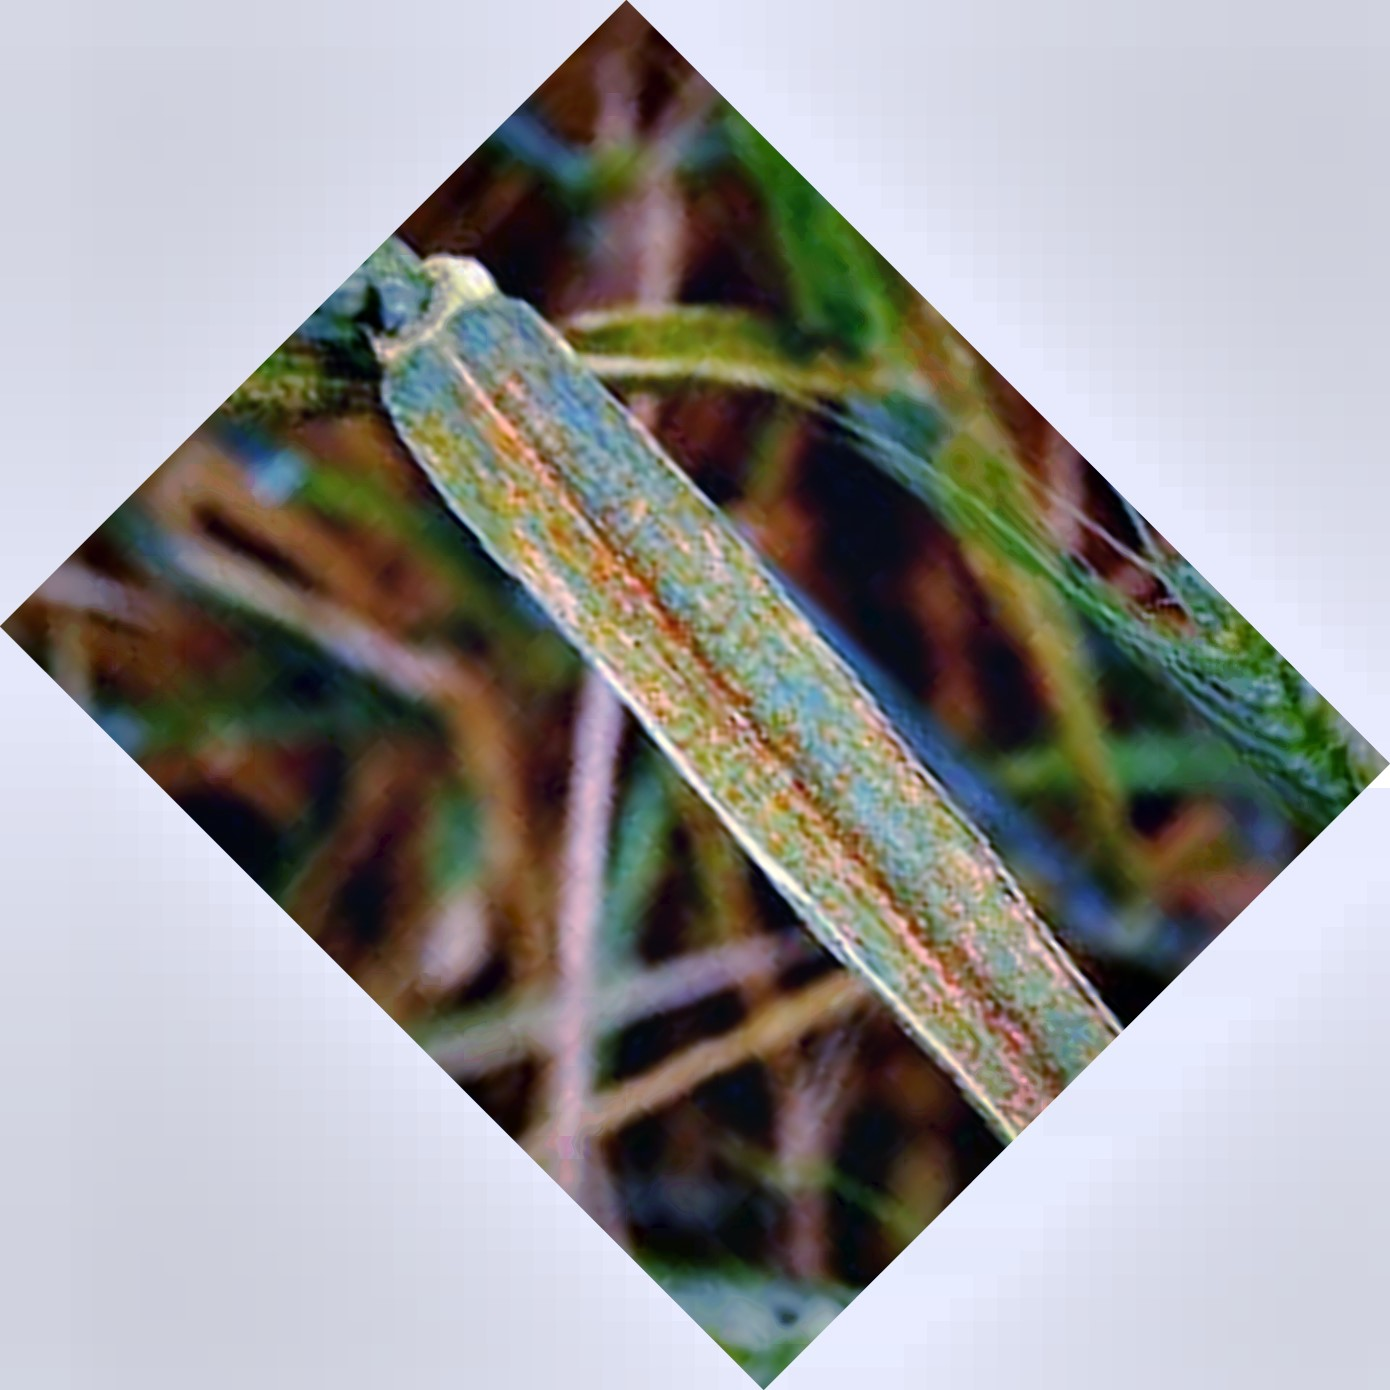Leaf Rust: (510, 452, 873, 877)
